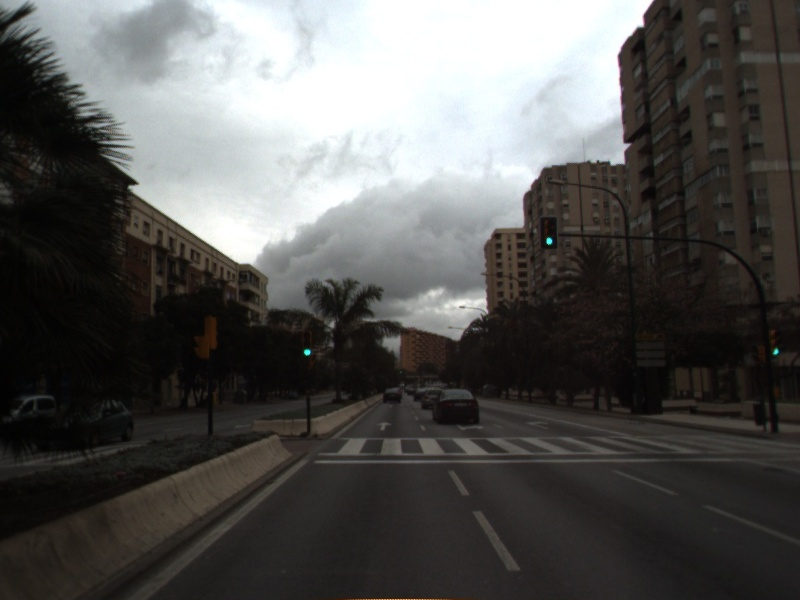RIGHT: (524, 418, 553, 432)
STRAIGHT: (374, 419, 395, 433)
STRAIGHT_RIGHT: (454, 421, 486, 433)
